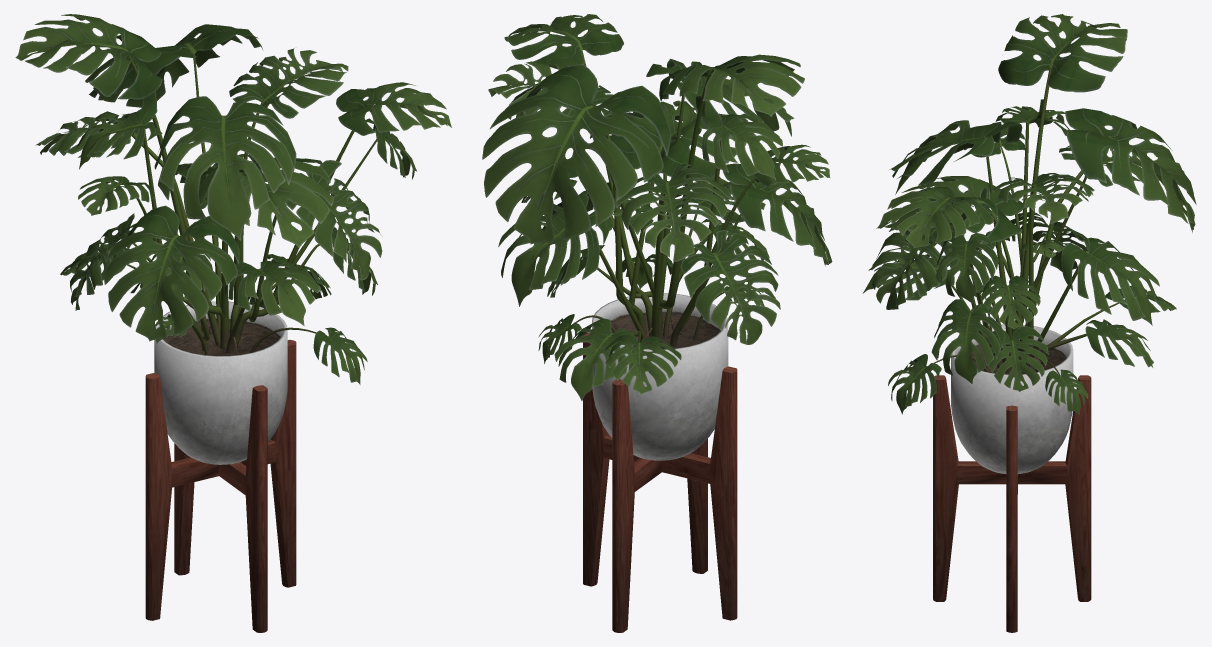
Rendered from monstera_deliciosa_potted_mid-century_plant-transformed.glb.
The picture shows the model from 3 angles, left to right: view 1: azimuth 30°, elevation 25°; view 2: azimuth 150°, elevation 25°; view 3: azimuth 270°, elevation 25°; orthographic projection. The views are drawn at different scales.
Parts seen in each view (by area): view 1: Leaves_Mat.1_0, Stand_Mat_0, root_HP_1_Mat.2_0; view 2: Leaves_Mat.1_0, Stand_Mat_0, root_HP_1_Mat.2_0; view 3: Leaves_Mat.1_0, Stand_Mat_0, root_HP_1_Mat.2_0.
Part boxes in pixels (left/top/right/bottom): Leaves_Mat.1_0: left=15, top=14, right=451, bottom=384; Stand_Mat_0: left=145, top=301, right=296, bottom=632; root_HP_1_Mat.2_0: left=124, top=53, right=376, bottom=355; Leaves_Mat.1_0: left=482, top=14, right=832, bottom=400; Stand_Mat_0: left=583, top=293, right=737, bottom=632; root_HP_1_Mat.2_0: left=559, top=50, right=755, bottom=346; Leaves_Mat.1_0: left=862, top=14, right=1196, bottom=414; Stand_Mat_0: left=933, top=324, right=1091, bottom=632; root_HP_1_Mat.2_0: left=933, top=68, right=1124, bottom=375.
Bounding box in the file's own units: 0.8695 × 1.36 × 0.7911.
3 materials, 3 textured.
